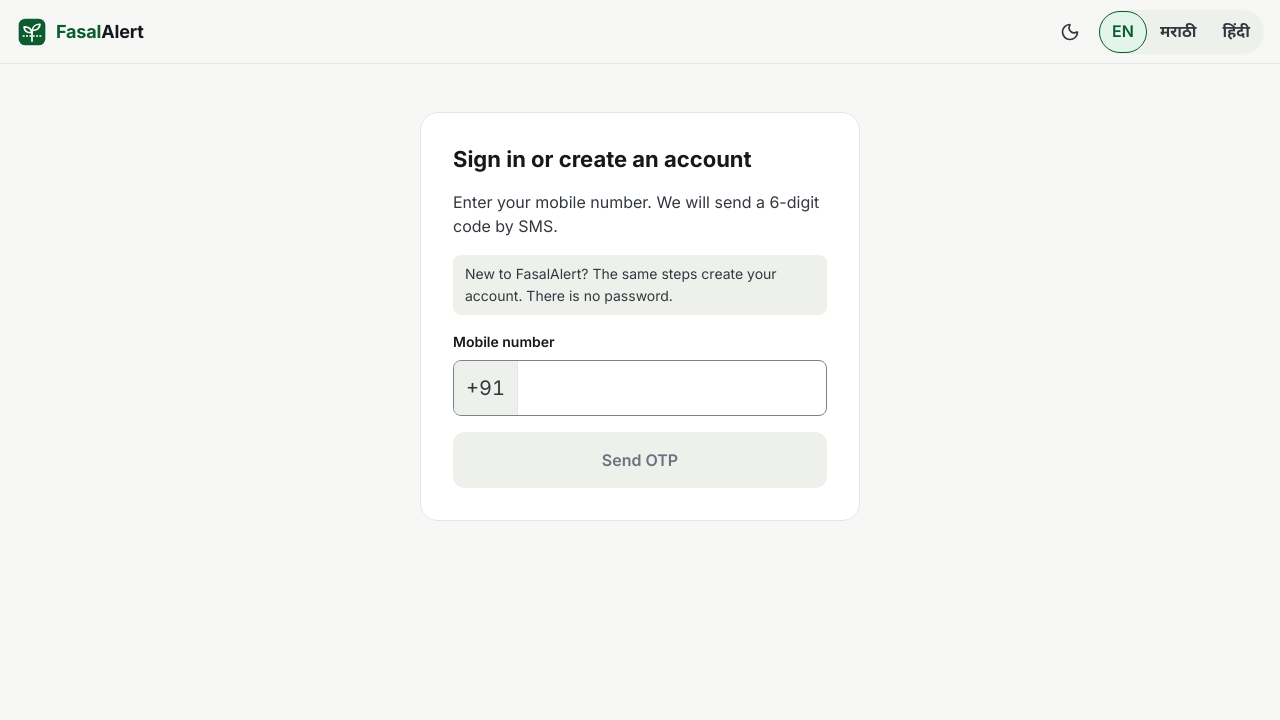
Test: shows the rate limit with the server retry_after
The image size is (1280, 720).
In the field labelled "Mobile number": (672, 388) x1=518 y1=361 x2=826 y2=415, type "9876543210"
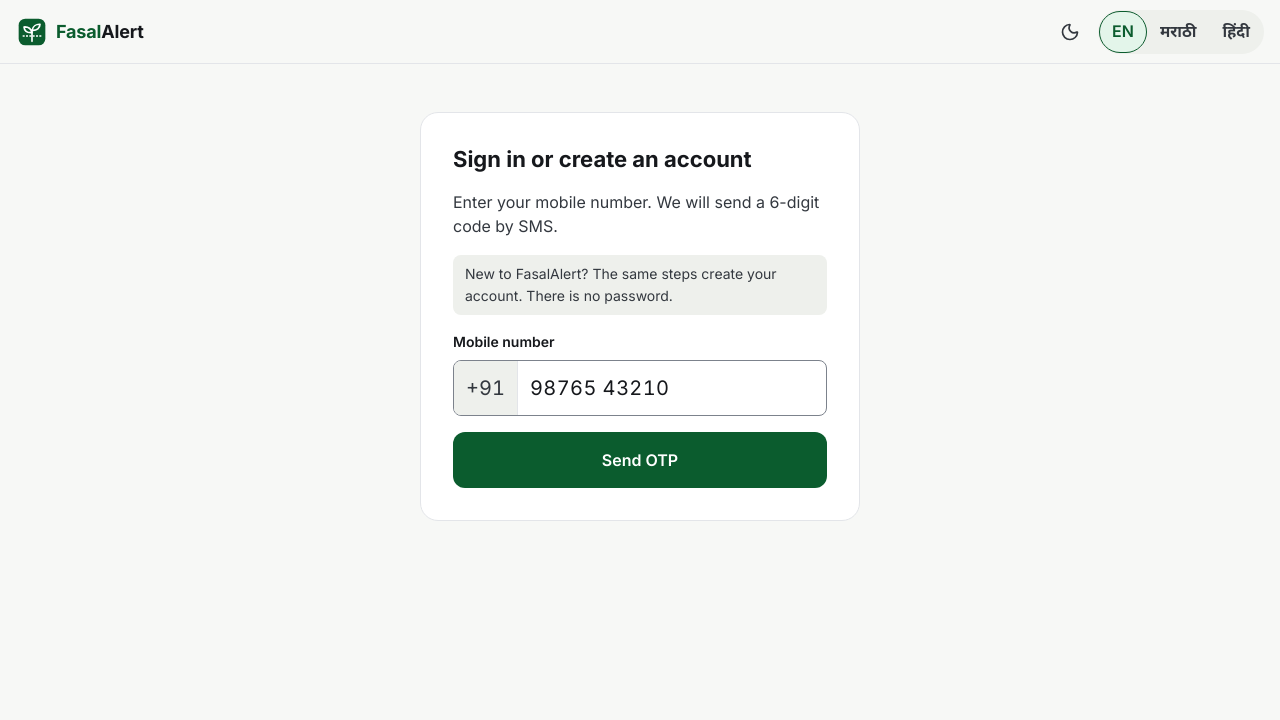
Click the button "Send OTP": (640, 460) x1=453 y1=432 x2=827 y2=488
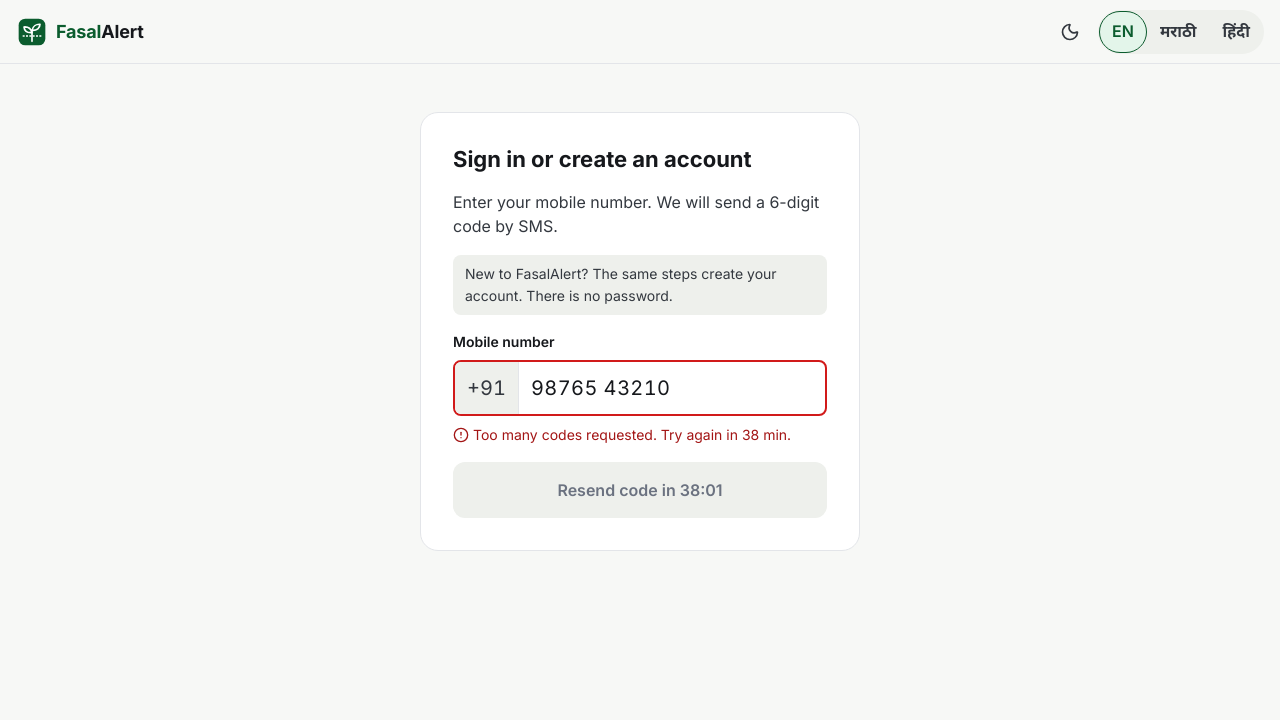
Now the text "Too many codes requested. Try again in 38 min." is shown, box x1=473 y1=424 x2=791 y2=446
